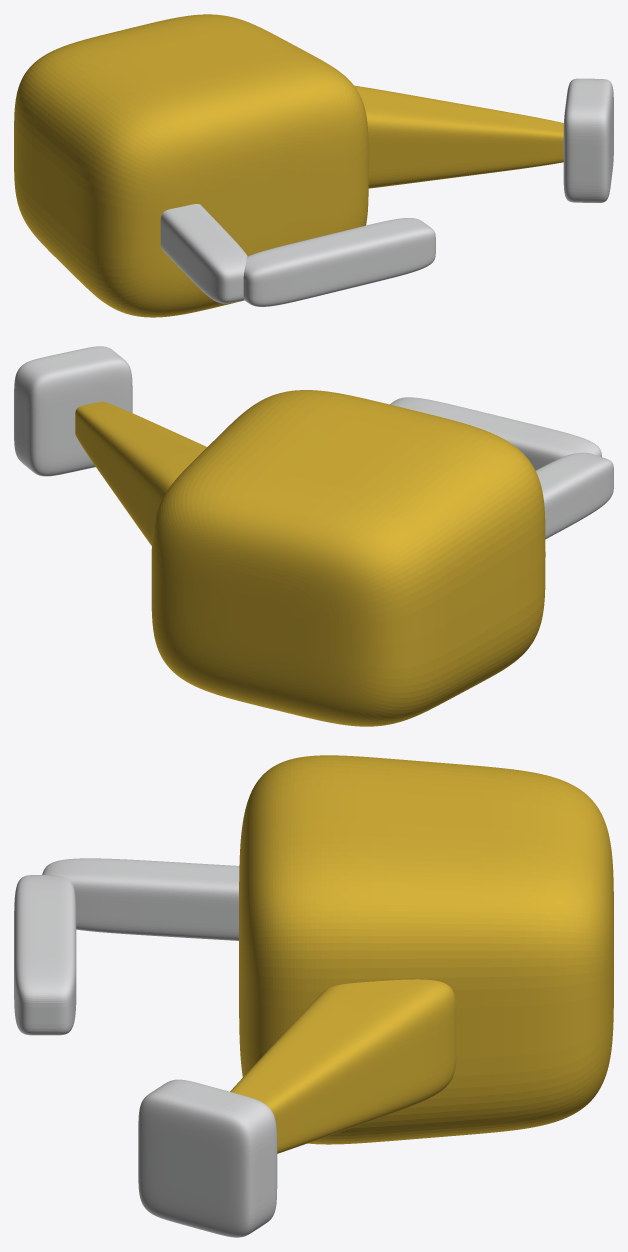
The model's file is garden_watering_can_sq.glb.
The picture shows the model from 3 angles, top to bottom: view 1: azimuth 30°, elevation 25°; view 2: azimuth 150°, elevation 25°; view 3: azimuth 270°, elevation 25°; orthographic projection. The views are drawn at different scales.
Visible parts, largest first — view 1: superquadric_0, superquadric_1, superquadric_3, superquadric_4, superquadric_2; view 2: superquadric_0, superquadric_4, superquadric_1, superquadric_2, superquadric_3; view 3: superquadric_0, superquadric_1, superquadric_4, superquadric_2, superquadric_3.
Boxes of the visible parts, x1,y1,x2,y2 form: superquadric_0: [14, 14, 368, 317]; superquadric_1: [354, 85, 563, 188]; superquadric_3: [243, 218, 435, 306]; superquadric_4: [563, 78, 613, 202]; superquadric_2: [160, 204, 247, 303]; superquadric_0: [151, 390, 545, 726]; superquadric_4: [14, 346, 132, 476]; superquadric_1: [75, 401, 206, 545]; superquadric_2: [536, 452, 613, 539]; superquadric_3: [390, 397, 601, 470]; superquadric_0: [239, 755, 613, 1144]; superquadric_1: [230, 979, 456, 1153]; superquadric_4: [138, 1079, 277, 1237]; superquadric_2: [42, 858, 239, 940]; superquadric_3: [14, 875, 76, 1035].
Size of the model in its own units: 1 by 0.4088 by 0.7912.
